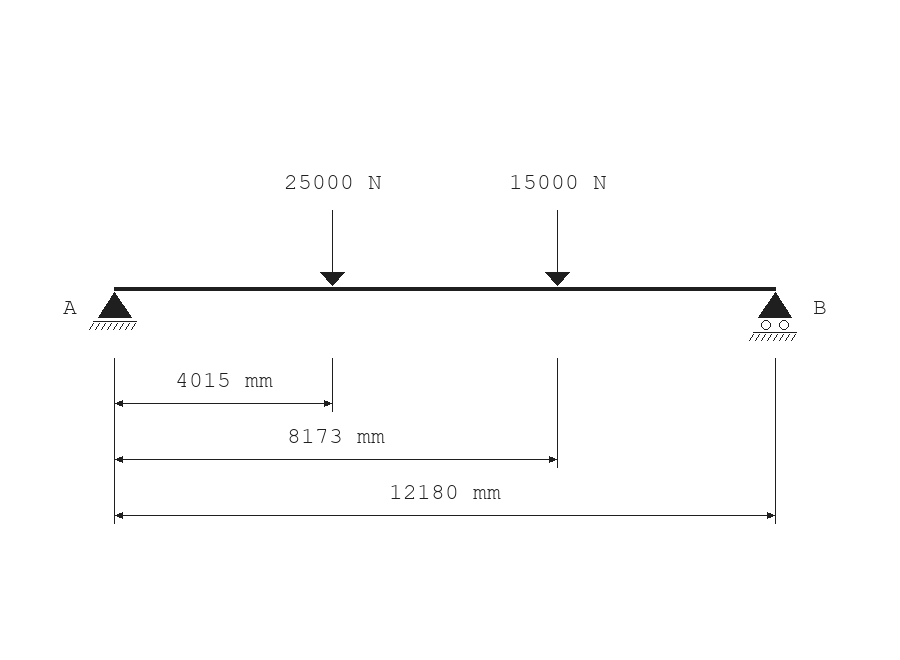pin_support: (89, 292, 137, 330)
point_load: (320, 210, 345, 286), (545, 210, 570, 286)
roller_support: (749, 292, 797, 341)
